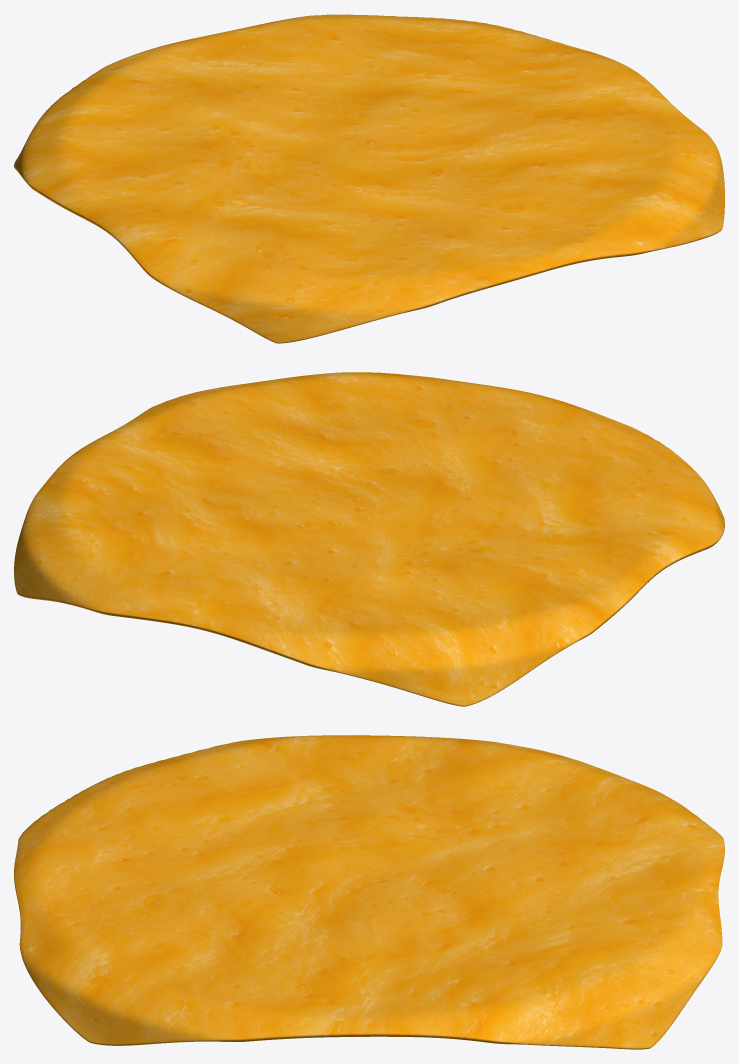
File: cheddar.glb
3 views of the same model, one above another, from view 1: azimuth 30°, elevation 25°; view 2: azimuth 150°, elevation 25°; view 3: azimuth 270°, elevation 25° (orthographic). The views are drawn at different scales.
Visible parts, largest first — view 1: Soft melted cheddar; view 2: Soft melted cheddar; view 3: Soft melted cheddar.
Boxes of the visible parts, left/top/right/bottom form: Soft melted cheddar: left=14, top=14, right=724, bottom=343; Soft melted cheddar: left=14, top=372, right=724, bottom=706; Soft melted cheddar: left=14, top=735, right=724, bottom=1049.
Size of the model in its own units: 2.17 by 0.1972 by 2.17.
1 material, 1 textured.
